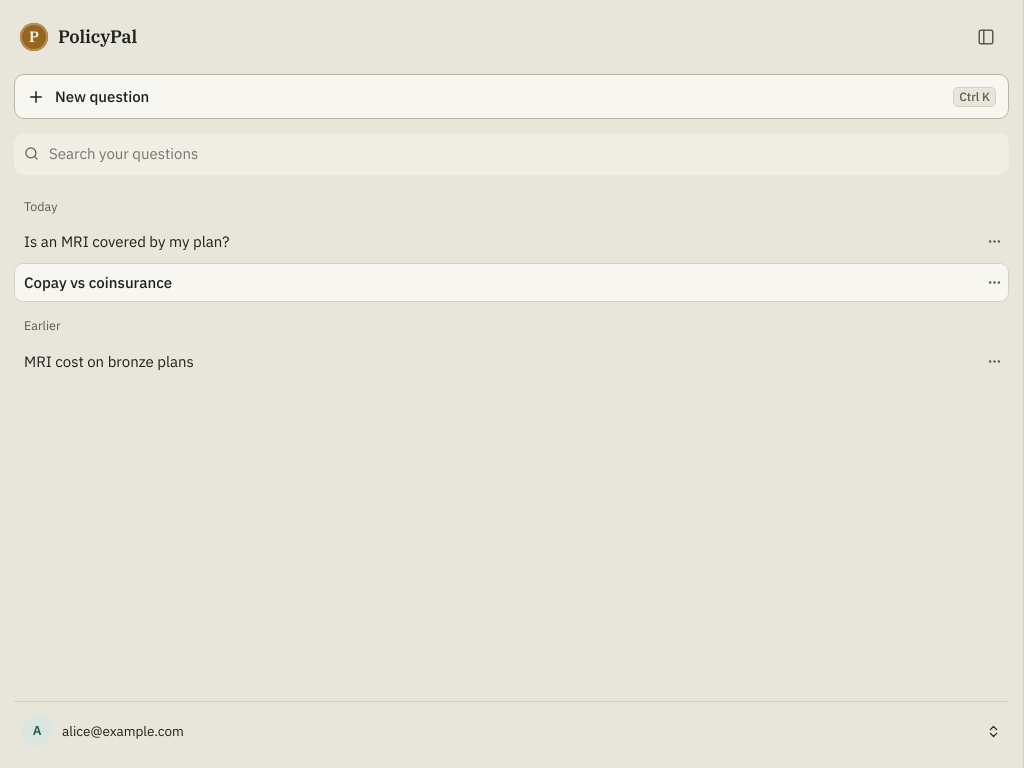
Scenario: Sidebar › says when nothing matches, and clearing restores the list
In the search field: point(523, 154) [47,141,999,167], type "dental"
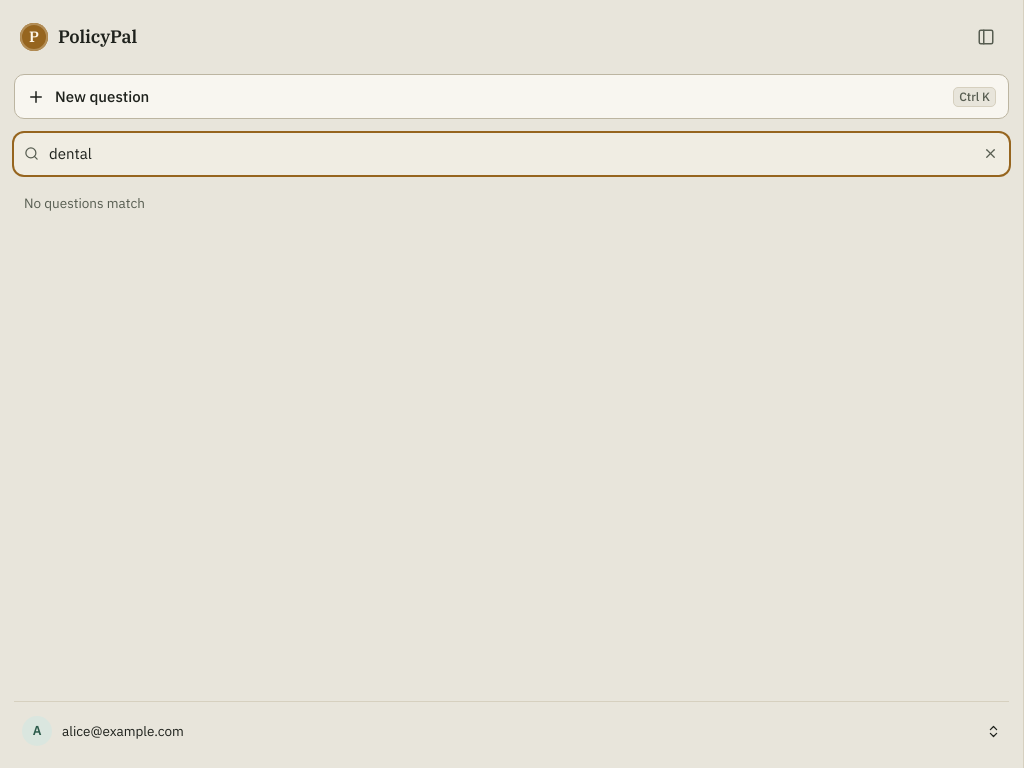
expect the text "No questions match" is shown: met, box [24,194,145,212]
Click the button named "Clear search": point(988, 154) [977,143,999,165]
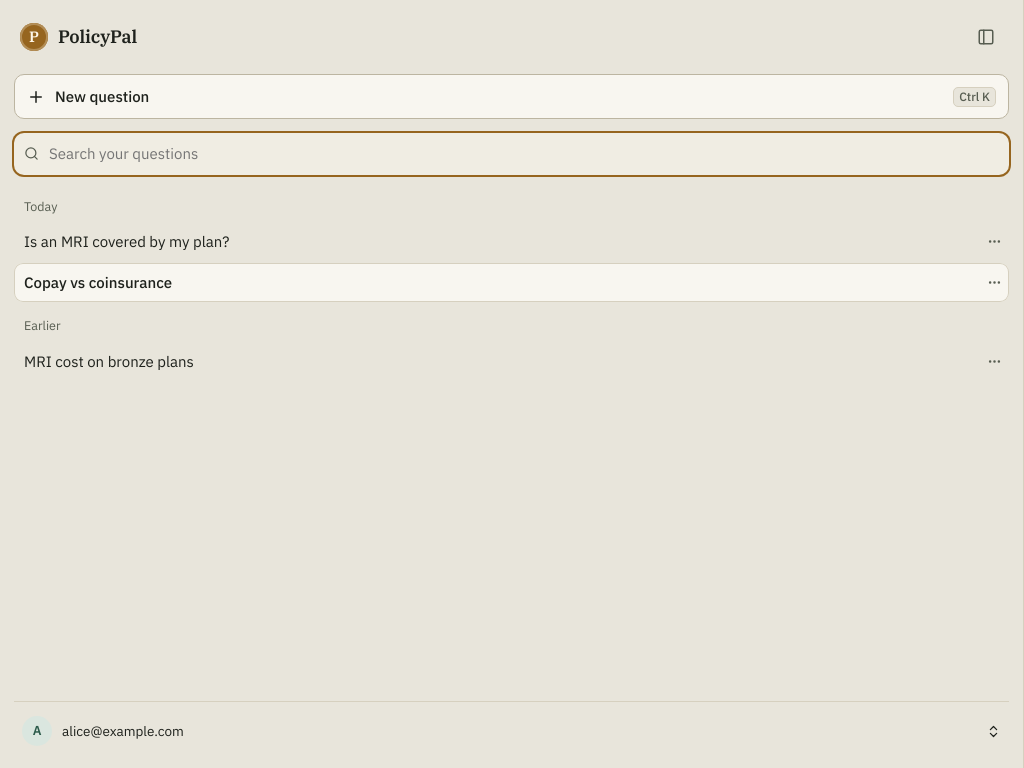
expect the heading "Today" is shown: met, box [24,198,58,214]
expect the number of list items is 3: met, box [14,222,1009,261]; [14,263,1009,302]; [14,342,1009,381]
